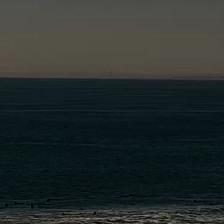surfer: (46, 197, 56, 202), (14, 202, 23, 206), (129, 193, 135, 197), (210, 203, 217, 206), (31, 203, 34, 209), (193, 199, 197, 203), (121, 196, 129, 198), (93, 211, 97, 215), (4, 203, 8, 207), (62, 213, 68, 215)
